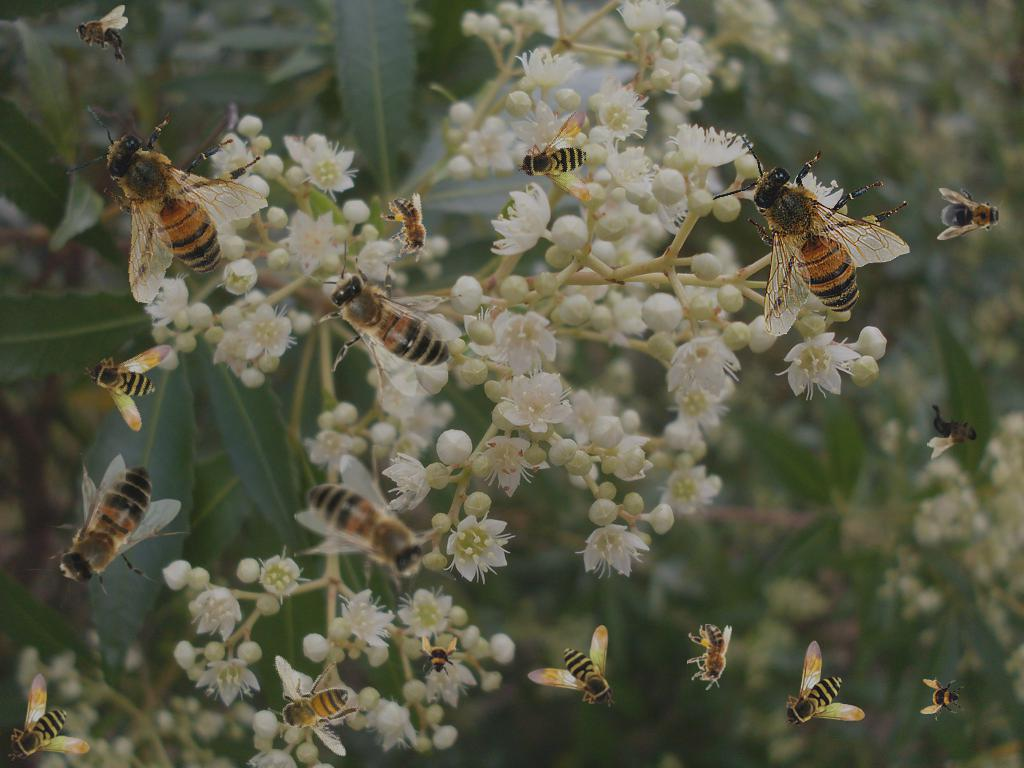Bee: (57, 87, 278, 311), (711, 133, 910, 337), (300, 238, 462, 405), (294, 445, 456, 612), (24, 453, 191, 615), (240, 633, 385, 768), (81, 320, 201, 438), (513, 93, 629, 211), (783, 640, 865, 728), (527, 625, 615, 707), (8, 673, 90, 761), (375, 190, 441, 269), (937, 188, 1005, 240), (927, 398, 980, 460), (75, 5, 128, 67), (687, 624, 732, 690), (920, 677, 964, 721), (415, 634, 459, 678)
